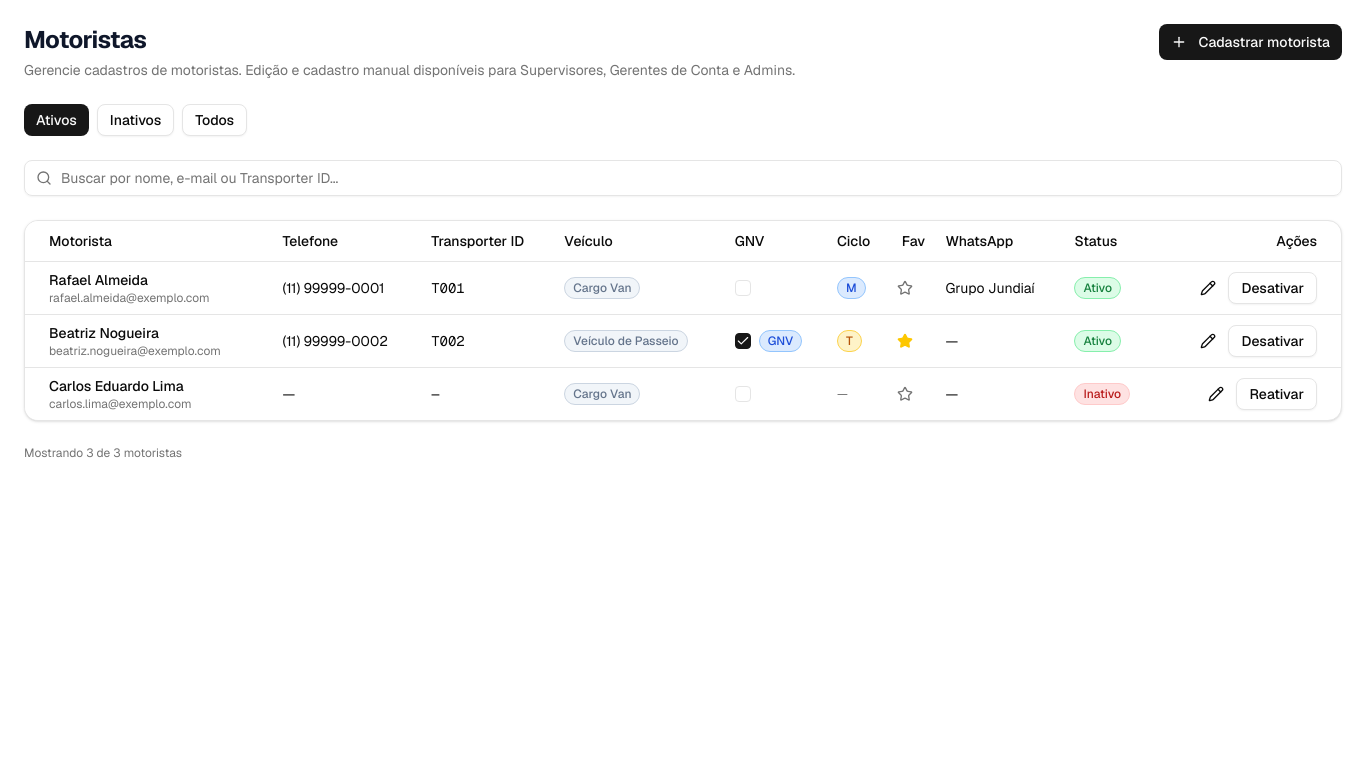
Test: DriversClient — edit driver › abre modal de edição com campo de CPF
The width and height of the screenshot is (1366, 768).
What coordinates should you click on to do the following:
click the button named "Editar Rafael Almeida"
I would click on:
 (1208, 288)
Its box is x1=1196 y1=276 x2=1220 y2=300.
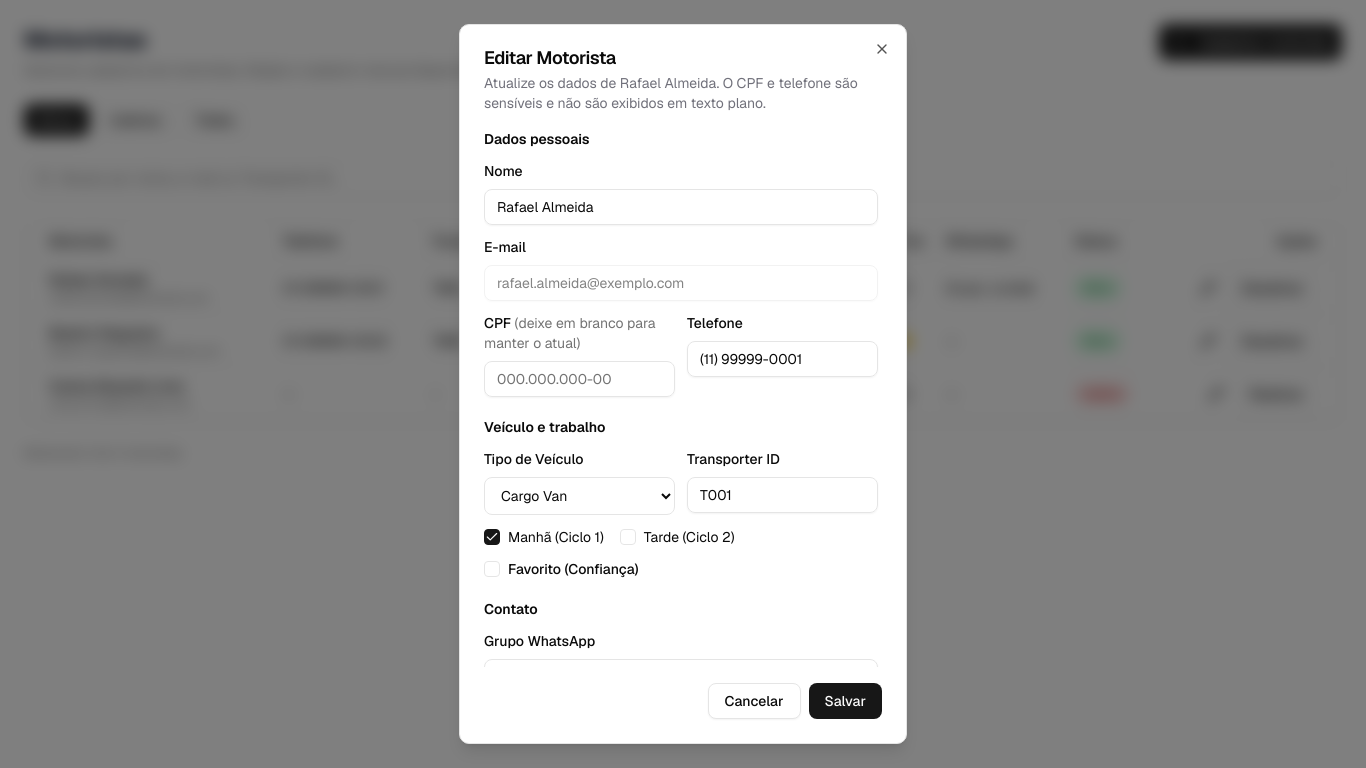
Expected: the heading "Editar Motorista" is shown, x1=484 y1=46 x2=616 y2=69
Expected: the field with placeholder "000.000.000-00" is shown, x1=484 y1=361 x2=675 y2=397
